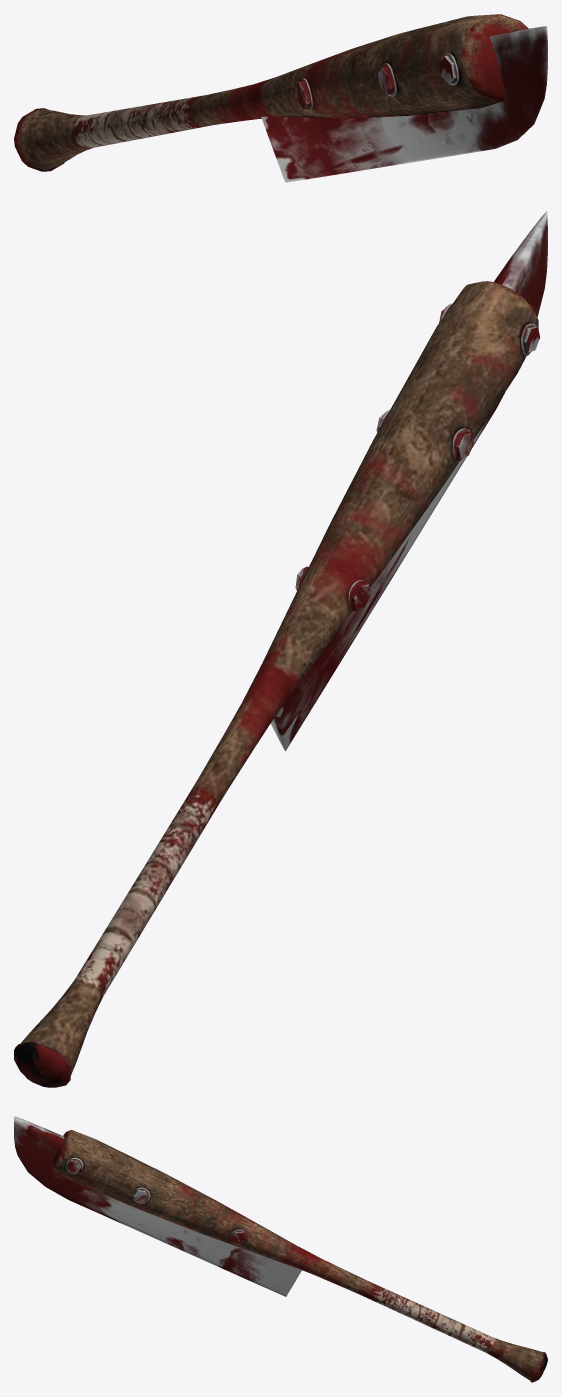
Rendered from taco.glb.
The picture shows the model from 3 angles, top to bottom: view 1: azimuth 30°, elevation 25°; view 2: azimuth 150°, elevation 25°; view 3: azimuth 270°, elevation 25°; orthographic projection. The views are drawn at different scales.
Visible parts, largest first — view 1: base_low, ostrze_low, nakretka4_low, nakretka5_low, nakretka6_low; view 2: base_low, ostrze_low; view 3: base_low, ostrze_low.
Part boxes in pixels (x1,y1,x2,y2): base_low: (14, 14, 528, 171); ostrze_low: (261, 26, 547, 182); nakretka4_low: (439, 55, 456, 83); nakretka5_low: (378, 66, 394, 94); nakretka6_low: (295, 80, 310, 109); base_low: (14, 281, 538, 1087); ostrze_low: (270, 211, 547, 751); base_low: (51, 1130, 547, 1382); ostrze_low: (14, 1116, 301, 1296).
Bounding box in the file's own units: 0.4549 × 2.52 × 4.6.
2 materials, 2 textured.
